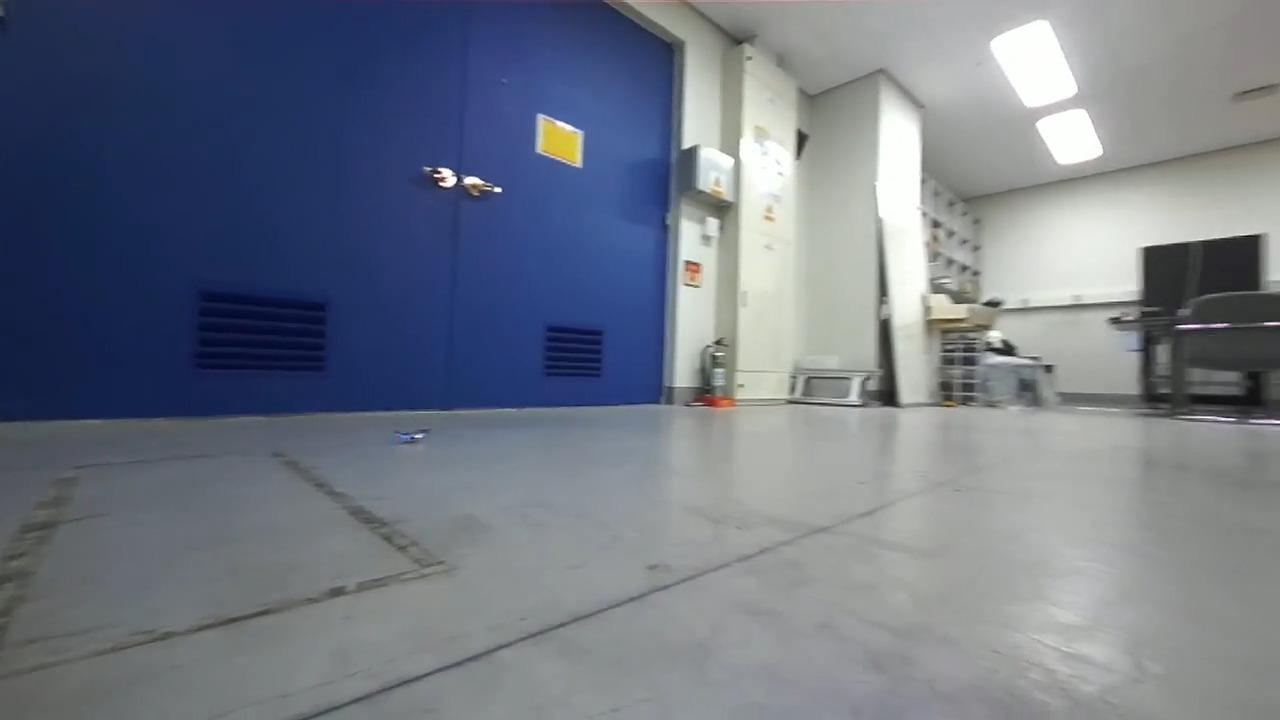crazyflie: (389, 422, 435, 449)
